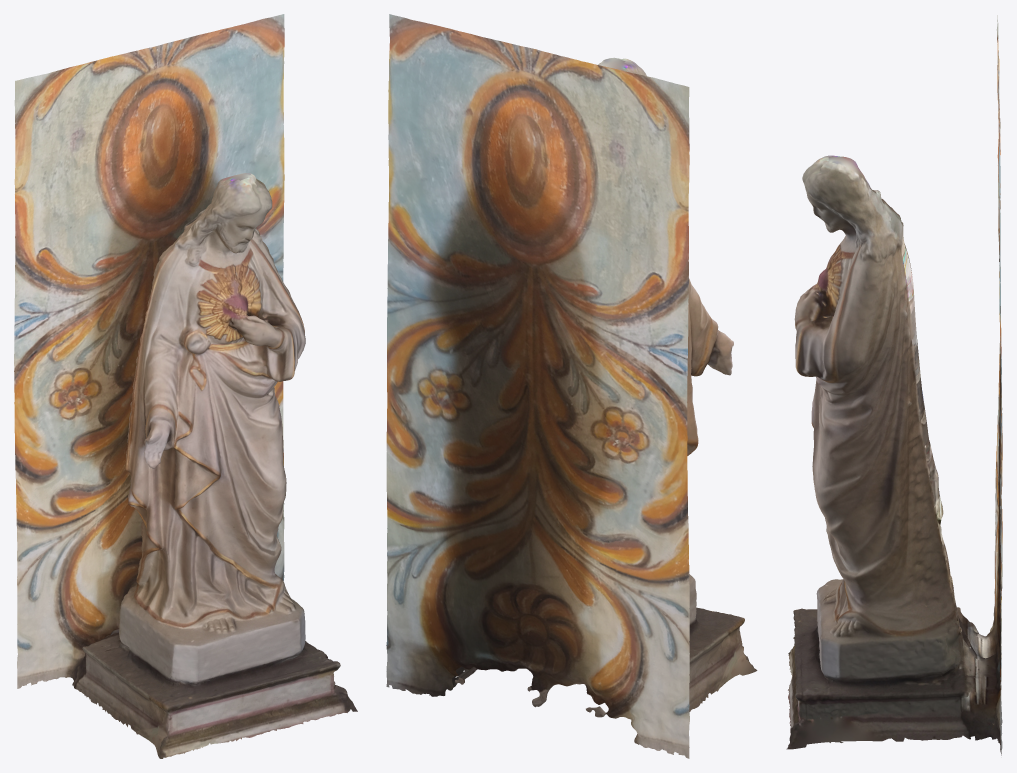
The model's file is christ.glb.
The picture shows the model from 3 angles, left to right: view 1: azimuth 30°, elevation 25°; view 2: azimuth 150°, elevation 25°; view 3: azimuth 270°, elevation 25°; orthographic projection. The views are drawn at different scales.
Visible parts, largest first — view 1: Object_3, Object_2; view 2: Object_3, Object_2; view 3: Object_2, Object_3.
Boxes of the visible parts, x1,y1,x2,y2 form: Object_3: [14, 17, 291, 726]; Object_2: [15, 14, 357, 758]; Object_3: [386, 18, 712, 758]; Object_2: [388, 14, 757, 711]; Object_2: [786, 15, 1000, 749]; Object_3: [852, 23, 1002, 755].
Size of the model in its own units: 2.53 by 5.48 by 1.74.
1 material, 1 textured.
